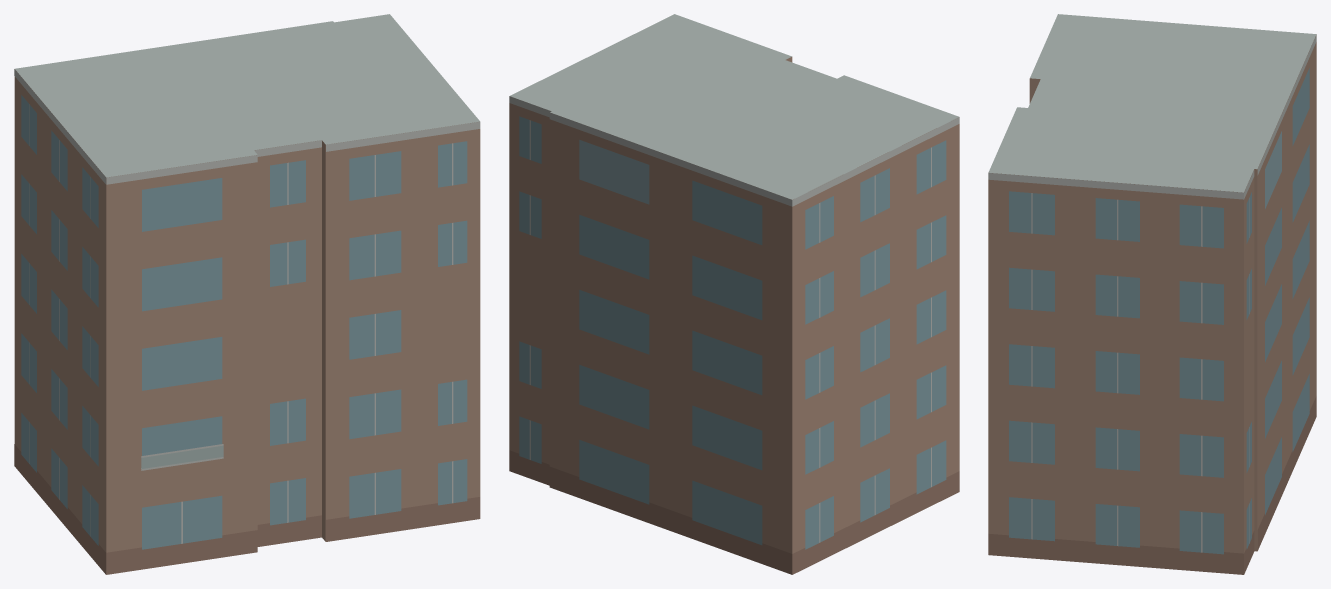
File: survey-upis-32624324.glb
The picture shows the model from 3 angles, left to right: view 1: azimuth 30°, elevation 25°; view 2: azimuth 150°, elevation 25°; view 3: azimuth 270°, elevation 25°; orthographic projection. The views are drawn at different scales.
Parts seen in each view (by area): view 1: survey-upis-32624324.tmp; view 2: survey-upis-32624324.tmp; view 3: survey-upis-32624324.tmp.
Part boxes in pixels (<box>): survey-upis-32624324.tmp: <box>14,14,480,574</box>; survey-upis-32624324.tmp: <box>509,14,959,574</box>; survey-upis-32624324.tmp: <box>988,14,1316,574</box>.
Bounding box in the file's own units: 13.38 × 13.35 × 10.4.
